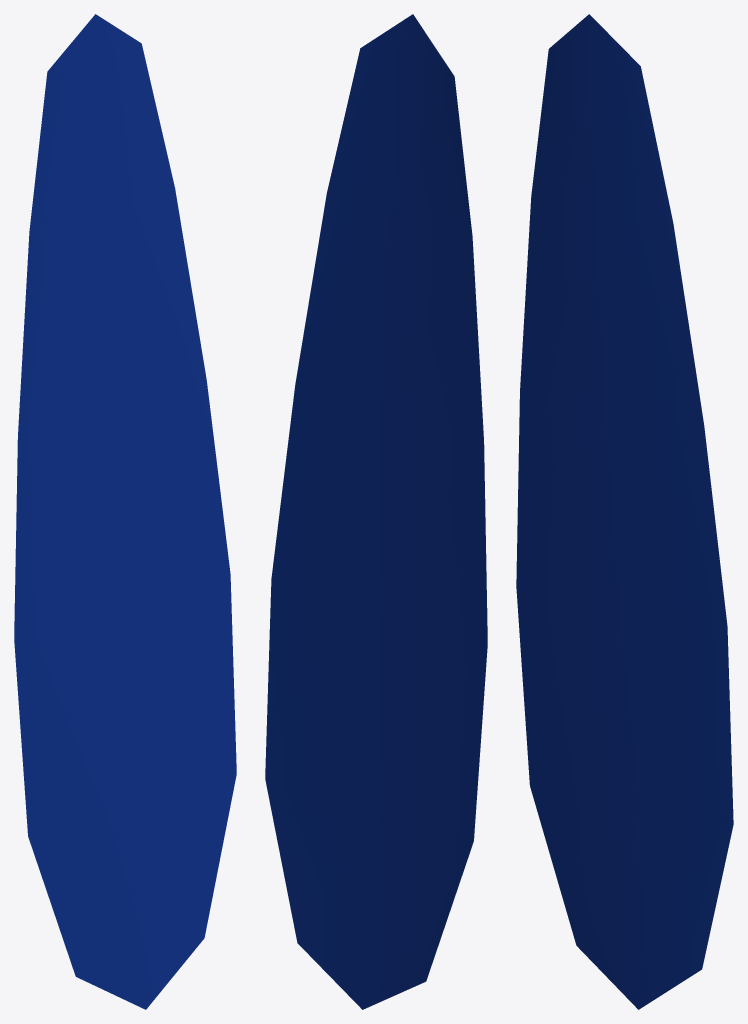
File: budgie_feather_flight_primary_006.obj
The picture shows the model from 3 angles, left to right: view 1: azimuth 30°, elevation 25°; view 2: azimuth 150°, elevation 25°; view 3: azimuth 330°, elevation 25°; orthographic projection. The views are drawn at different scales.
Visible parts, largest first — view 1: feather_flight_primary_006; view 2: feather_flight_primary_006; view 3: feather_flight_primary_006.
Part boxes in pixels (<box>): feather_flight_primary_006: <box>14,14,236,1009</box>; feather_flight_primary_006: <box>265,14,487,1009</box>; feather_flight_primary_006: <box>516,14,733,1009</box>.
Bounding box in the file's own units: 0.0125 × 0.0542 × 0.000322.
